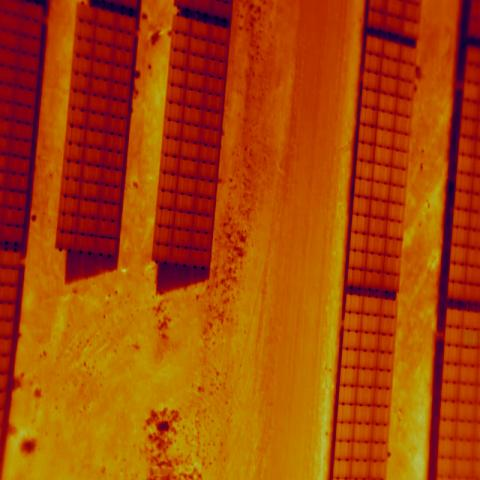fault: (462, 328, 479, 349)
